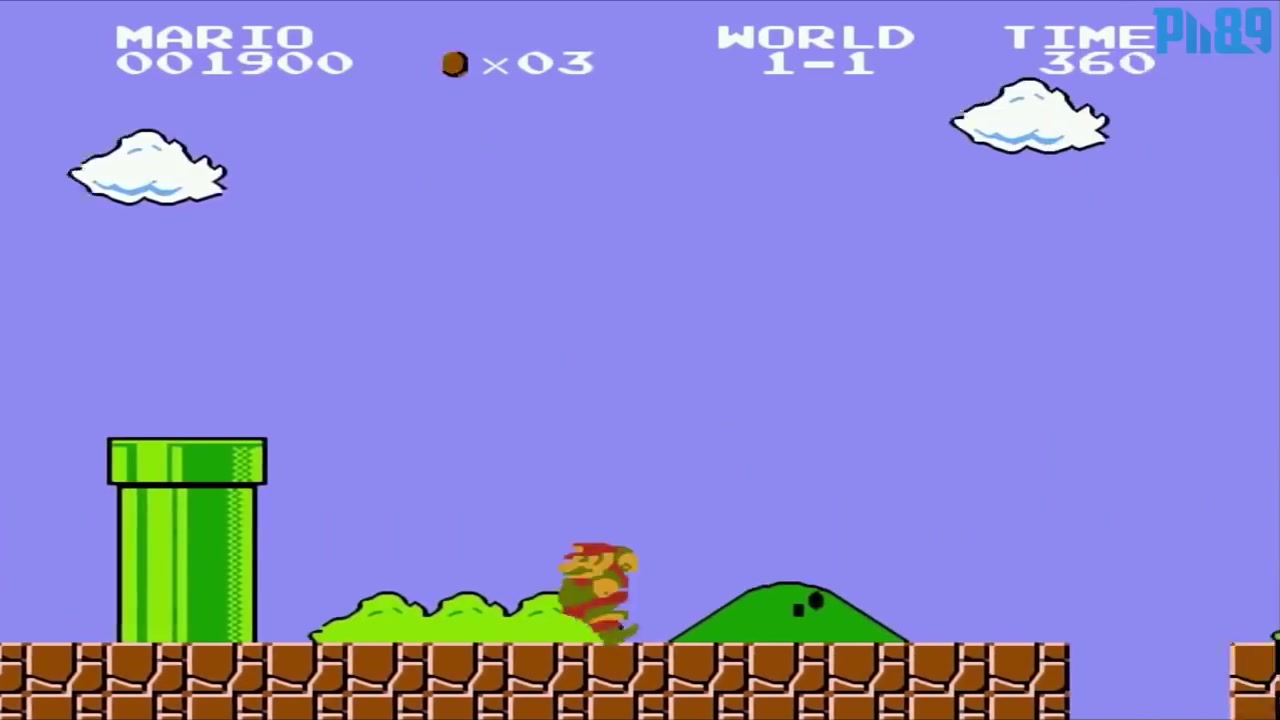mario: (544, 531, 649, 643)
